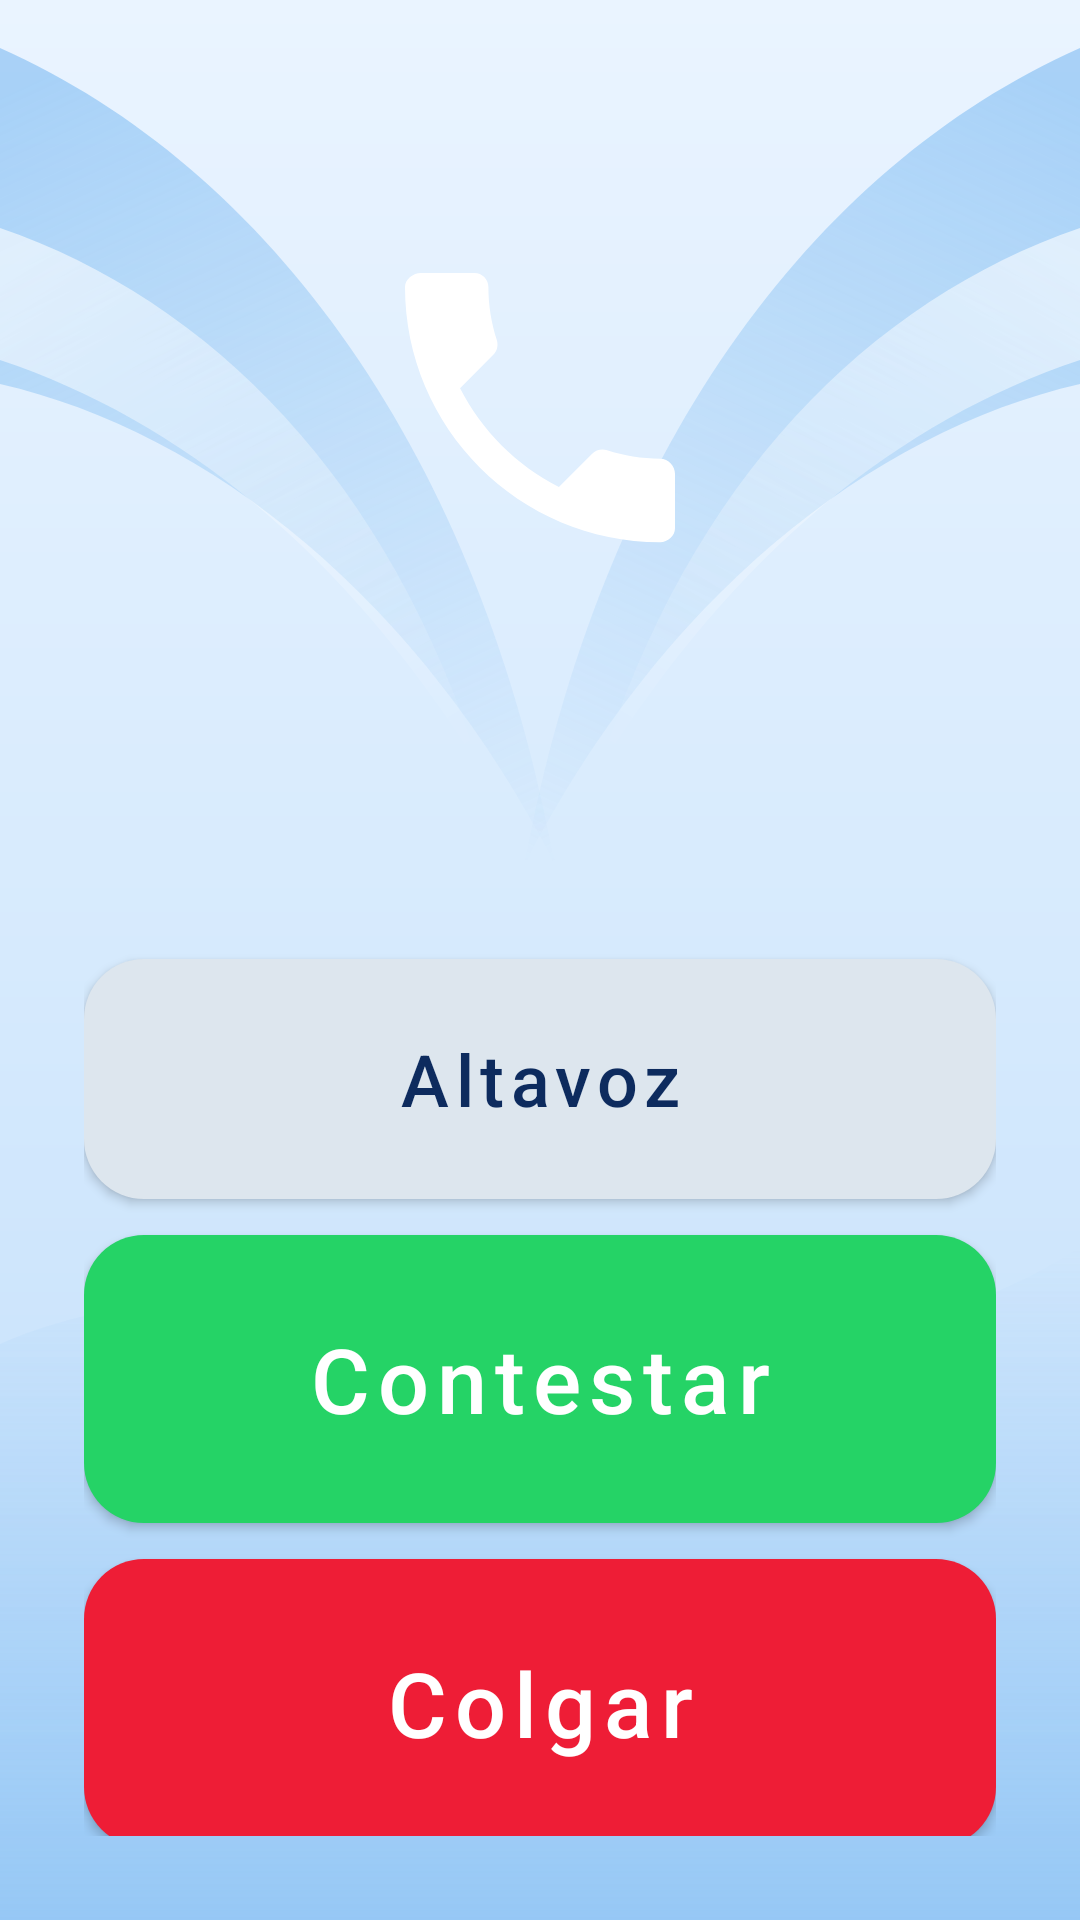

Icon click points for this 1080 × 1920 phone screenshot, format (x=x, y=y):
phone call: (x=540, y=430)
